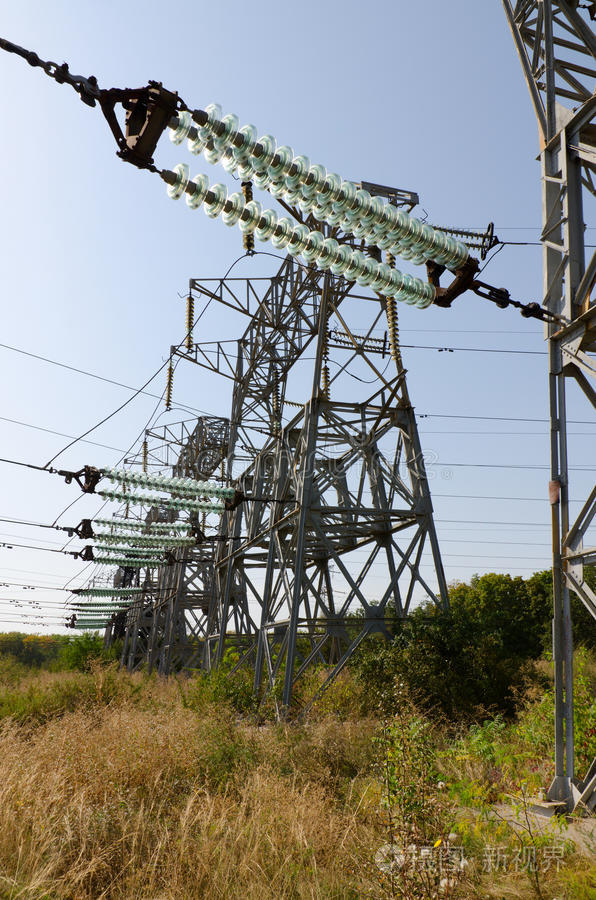insulator: (166, 108, 474, 302)
